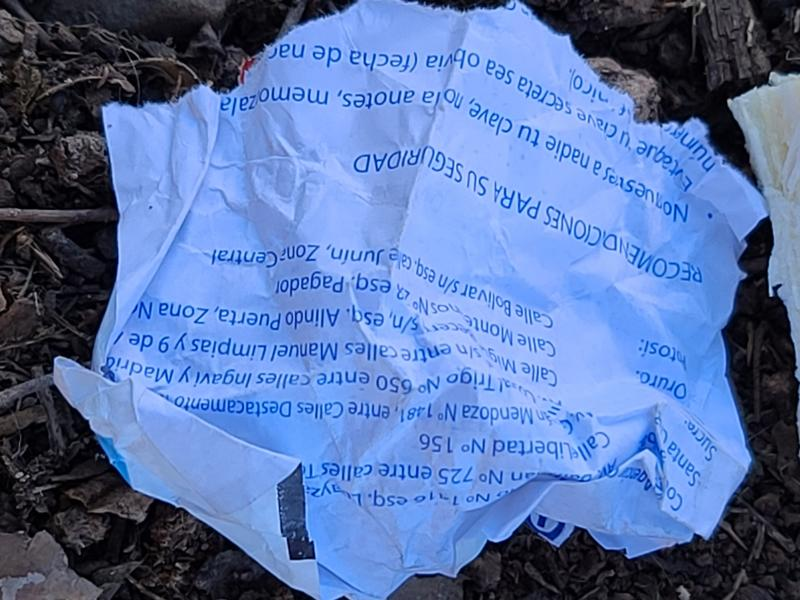papel: (51, 0, 770, 600)
